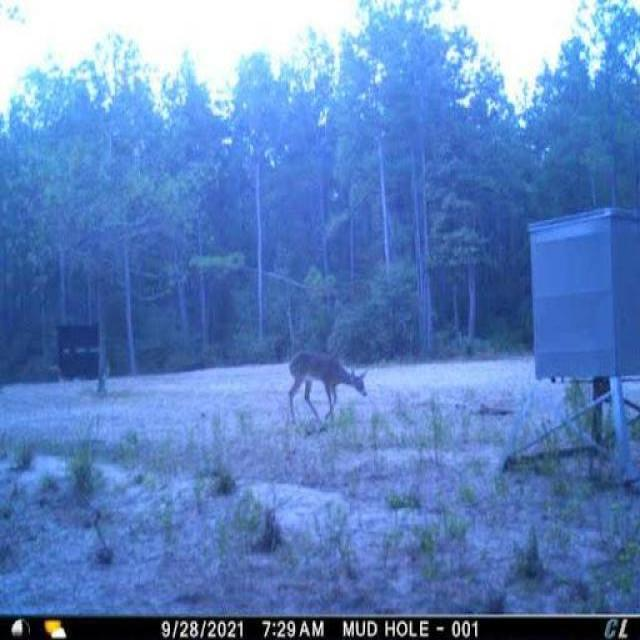deer: (275, 338, 376, 430)
